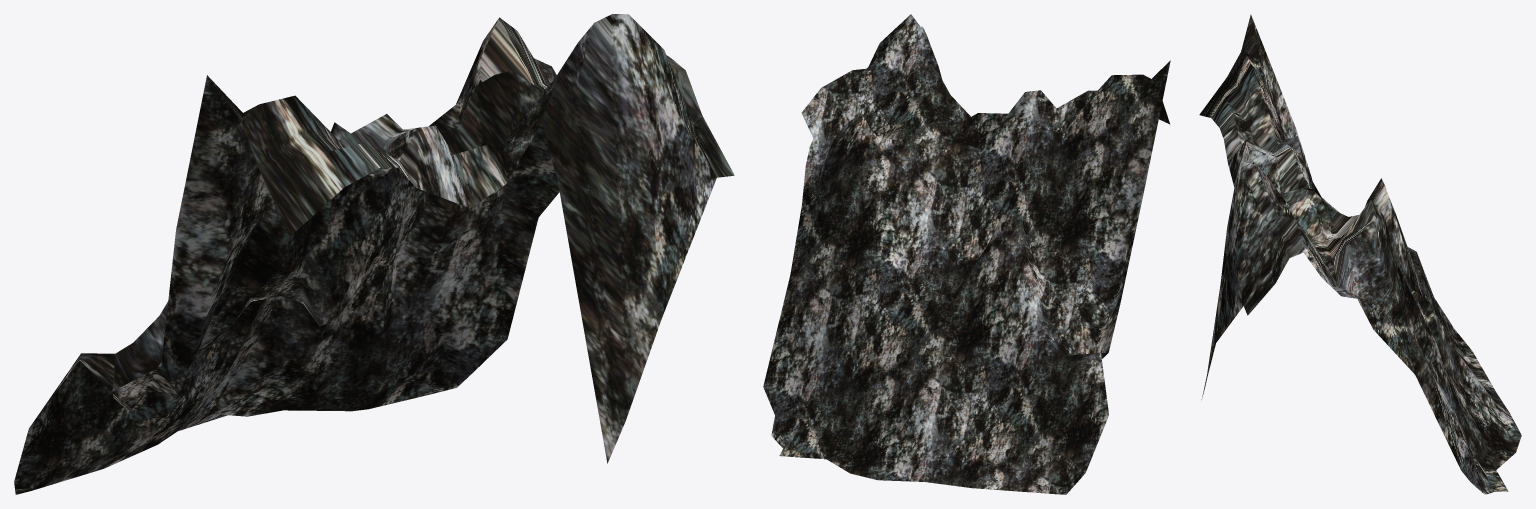
Rendered from OVERHILL_A_01_MOUN1_OBJECT158.fbx.
3 views of the same model, side by side, from view 1: azimuth 30°, elevation 25°; view 2: azimuth 150°, elevation 25°; view 3: azimuth 270°, elevation 25° (orthographic). The views are drawn at different scales.
Visible parts, largest first — view 1: OVERHILL_A_01_MOUN1_OBJECT158; view 2: OVERHILL_A_01_MOUN1_OBJECT158; view 3: OVERHILL_A_01_MOUN1_OBJECT158.
Part boxes in pixels (x1,y1,x2,y2): OVERHILL_A_01_MOUN1_OBJECT158: (14, 14, 734, 494); OVERHILL_A_01_MOUN1_OBJECT158: (763, 14, 1170, 494); OVERHILL_A_01_MOUN1_OBJECT158: (1199, 14, 1521, 494).
Bounding box in the file's own units: 352416 × 337078 × 278409.
Materials: 1 (1 with a texture image).
